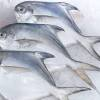Ikan Bawal: (1, 21, 96, 79), (11, 1, 100, 51)
